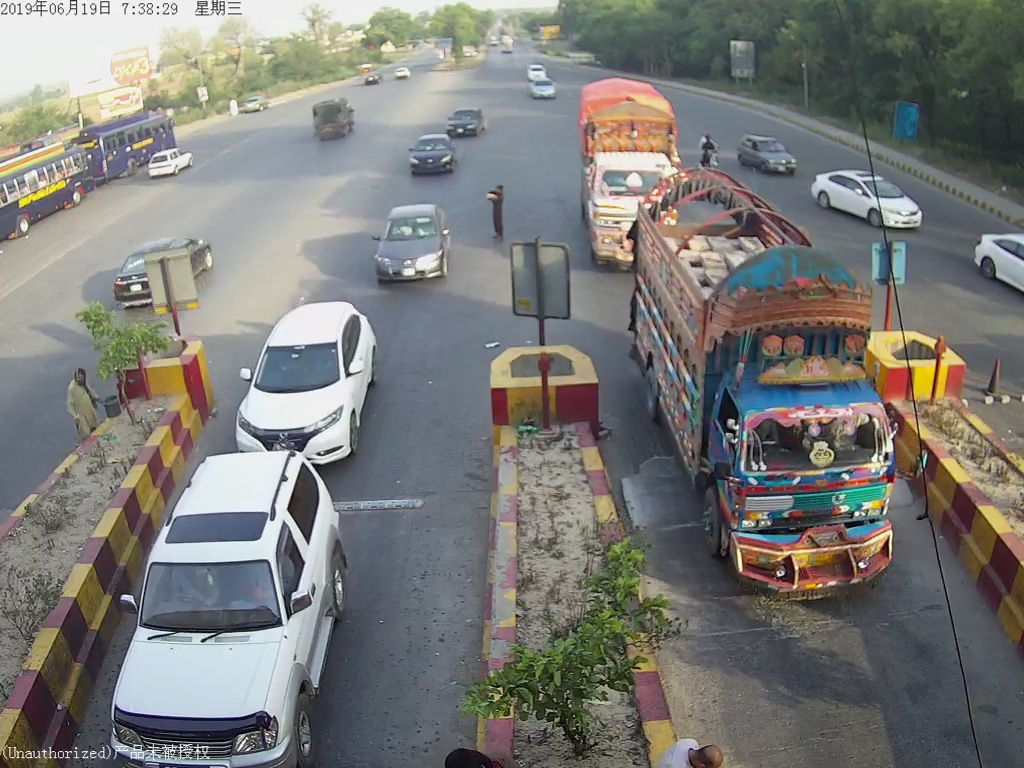Cat-1: (111, 449, 355, 766), (230, 298, 378, 460), (814, 163, 928, 234), (367, 199, 458, 280), (408, 131, 461, 177), (737, 130, 798, 169), (440, 103, 493, 139)
Cat-4: (641, 170, 908, 595), (569, 77, 674, 272)
